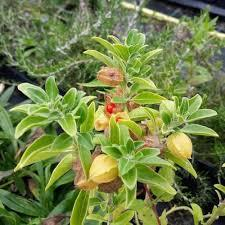healthy_leaf: (21, 30, 224, 225)
